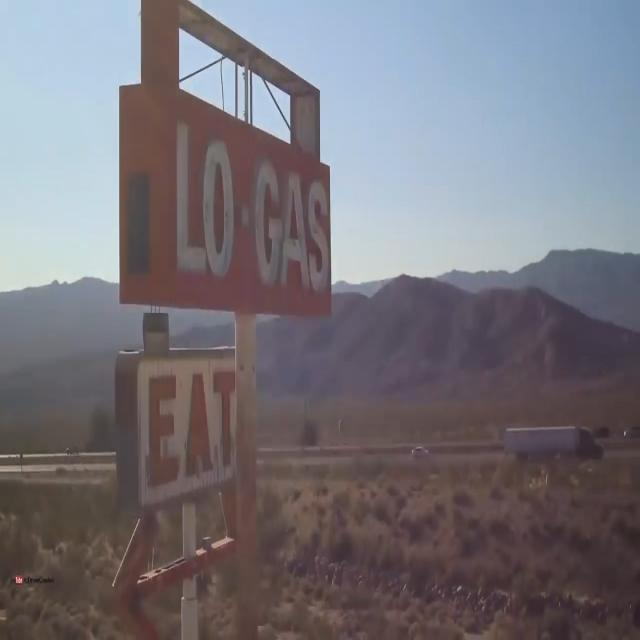Building: (109, 1, 326, 640)
